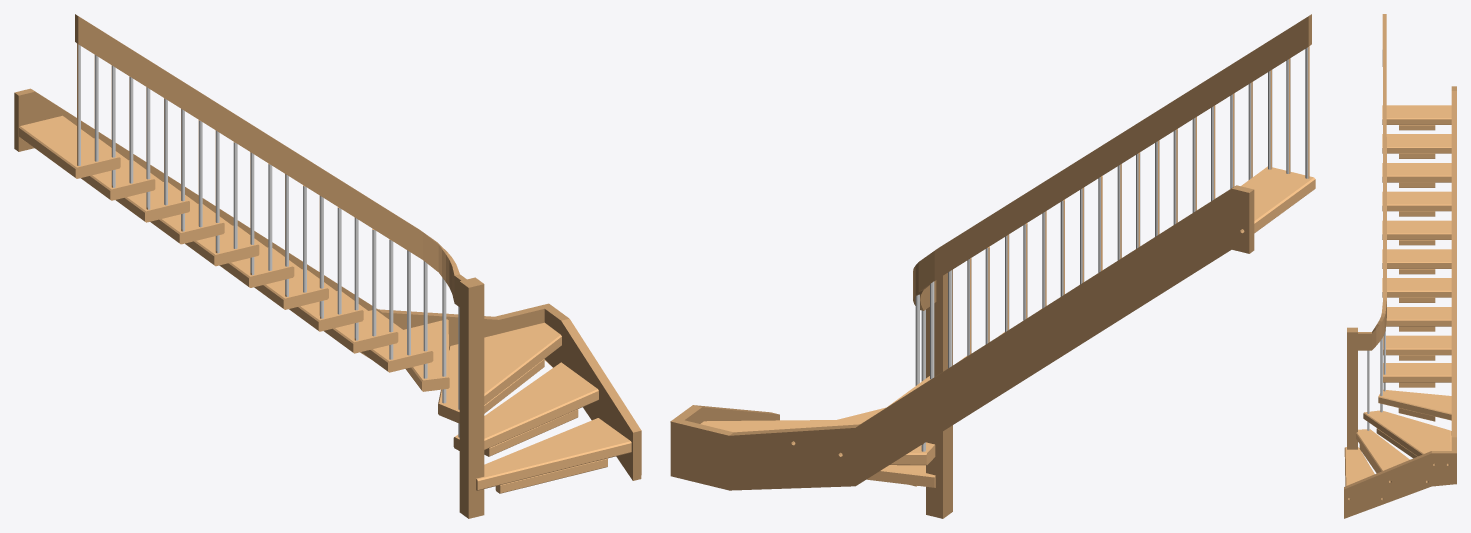
Rendered from treppe.fbx.
3 renders of one model, left to right at view 1: azimuth 30°, elevation 25°; view 2: azimuth 150°, elevation 25°; view 3: azimuth 270°, elevation 25°, orthographic. The views are drawn at different scales.
Visible parts, largest first — view 1: stufe mit cylinder; view 2: stufe mit cylinder; view 3: stufe mit cylinder.
Part boxes in pixels (left/top/right/bottom): stufe mit cylinder: left=14, top=14, right=641, bottom=518; stufe mit cylinder: left=670, top=14, right=1315, bottom=518; stufe mit cylinder: left=1344, top=14, right=1456, bottom=518.
Bounding box in the file's own units: 891 × 907 × 267.
